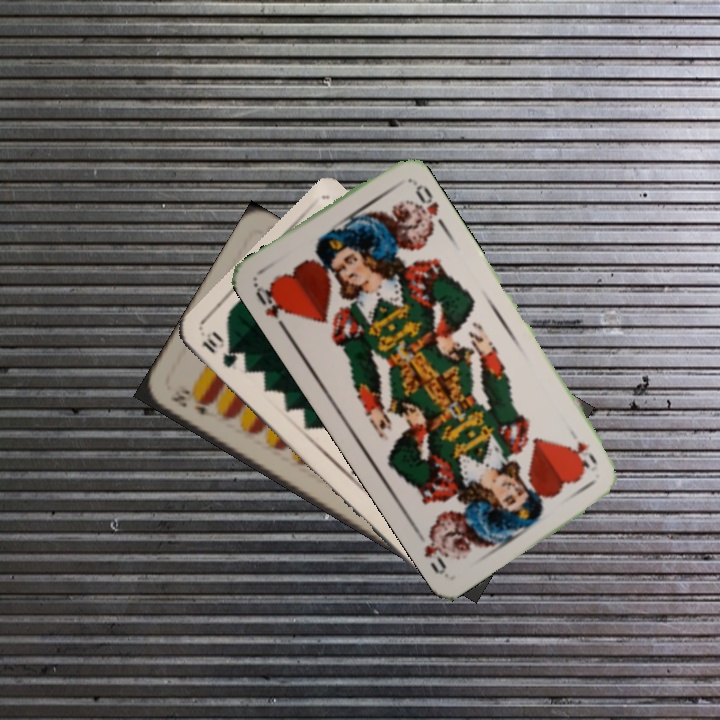E10: (166, 386, 219, 421)
G10: (198, 327, 240, 371)
HO: (250, 279, 290, 333), (570, 437, 600, 471)
